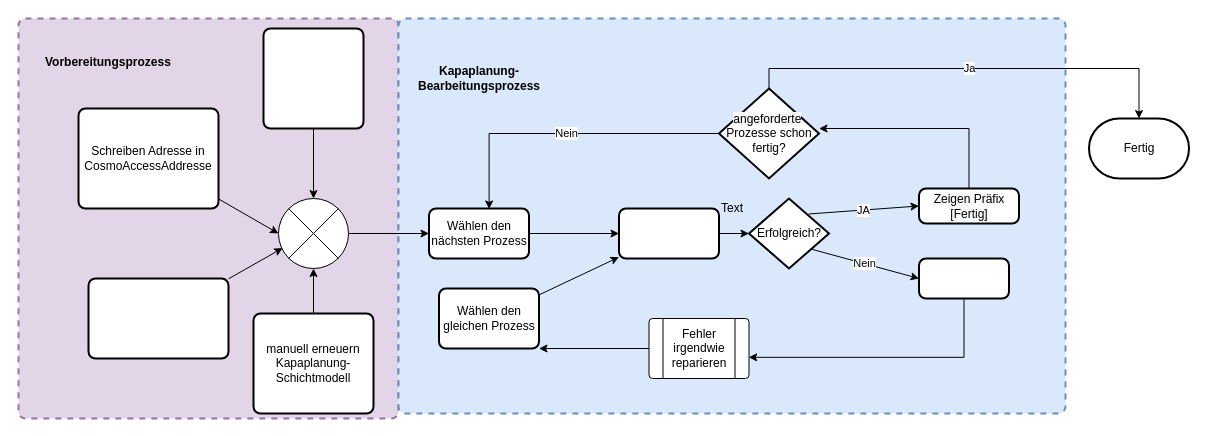
This 1207x436 diagram has some shape labels left out. Each missing label, with the centre of its shape:
Hinfügen VBA Verweise: Scripting Runtime und 16.0 Access Database engine: [313,78]
Klicken "starten den Prozess": [669,233]
manuell herunterladen Volumneforecast-Tagescheibe: [158,318]
Zeigen Präfix [Fehler]: [964,278]
